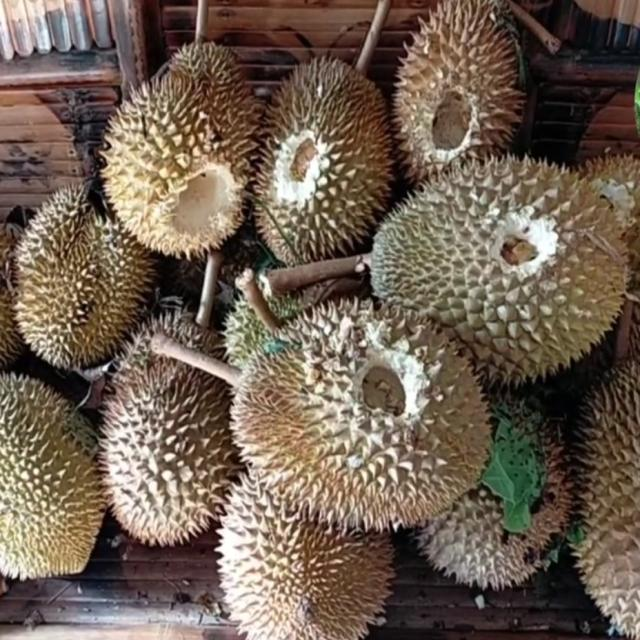defective: (365, 145, 636, 395), (224, 295, 494, 538), (102, 37, 264, 258), (254, 51, 397, 282), (385, 0, 530, 202)
mature: (98, 316, 241, 558), (208, 451, 388, 640), (11, 170, 153, 376)
